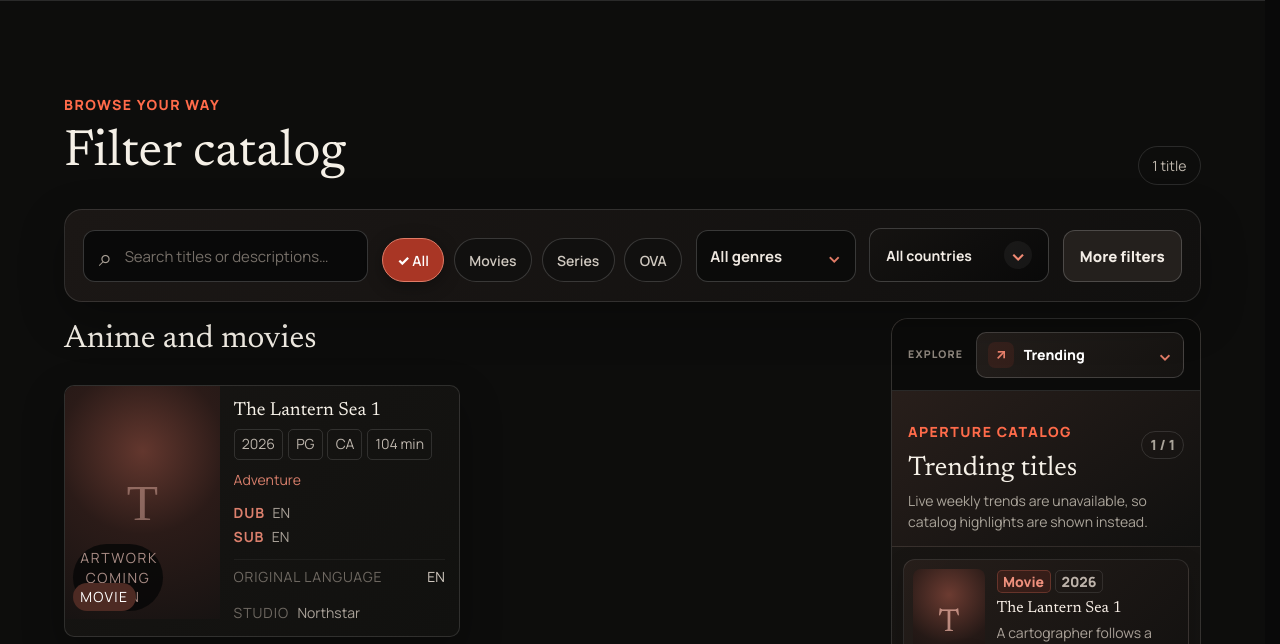
Test: CatalogFilterBrowser discovery panel › shows Trending by default while keeping Recent Searches available
Expected: the heading "Trending titles" is shown, [908,454,1077,482]
Expected: the heading "Recent searches" is not shown
What coordinates should you click on to do the following:
click the button "↗ Trending ⌄"
I would click on:
 (1080, 355)
Its box is [976,332,1184,378].
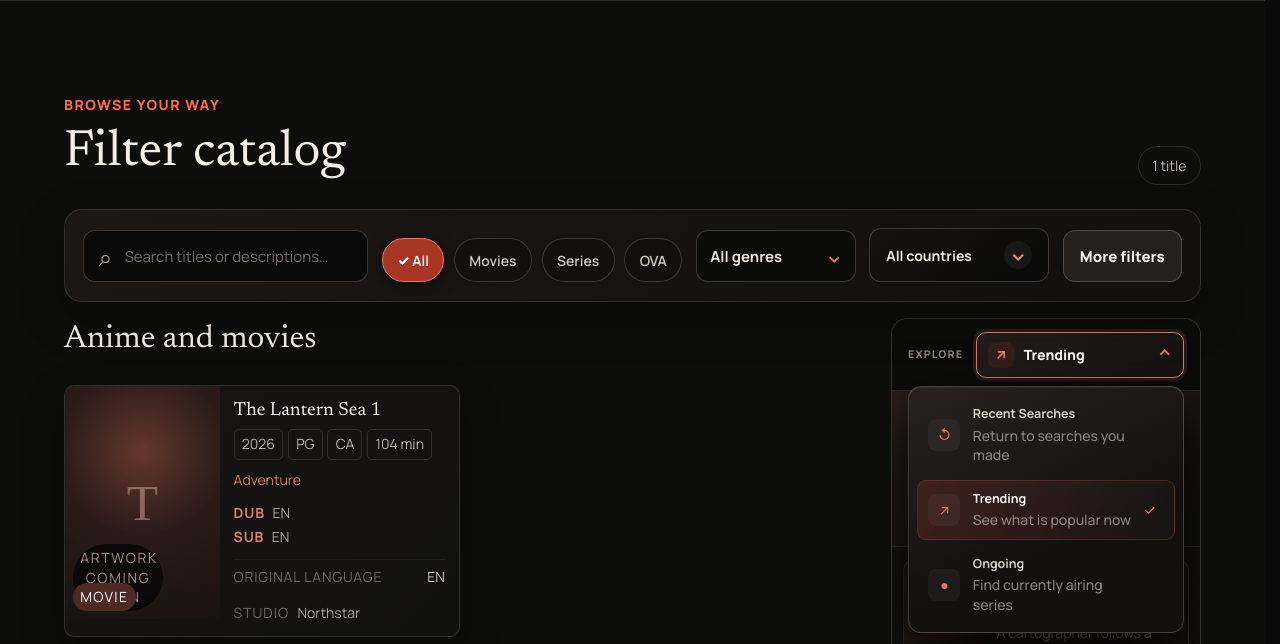
What coordinates should you click on to do the following:
click the option "↺ Recent Searches Return to searches you made"
I would click on:
 (1046, 435)
Its box is [917,395,1175,474].
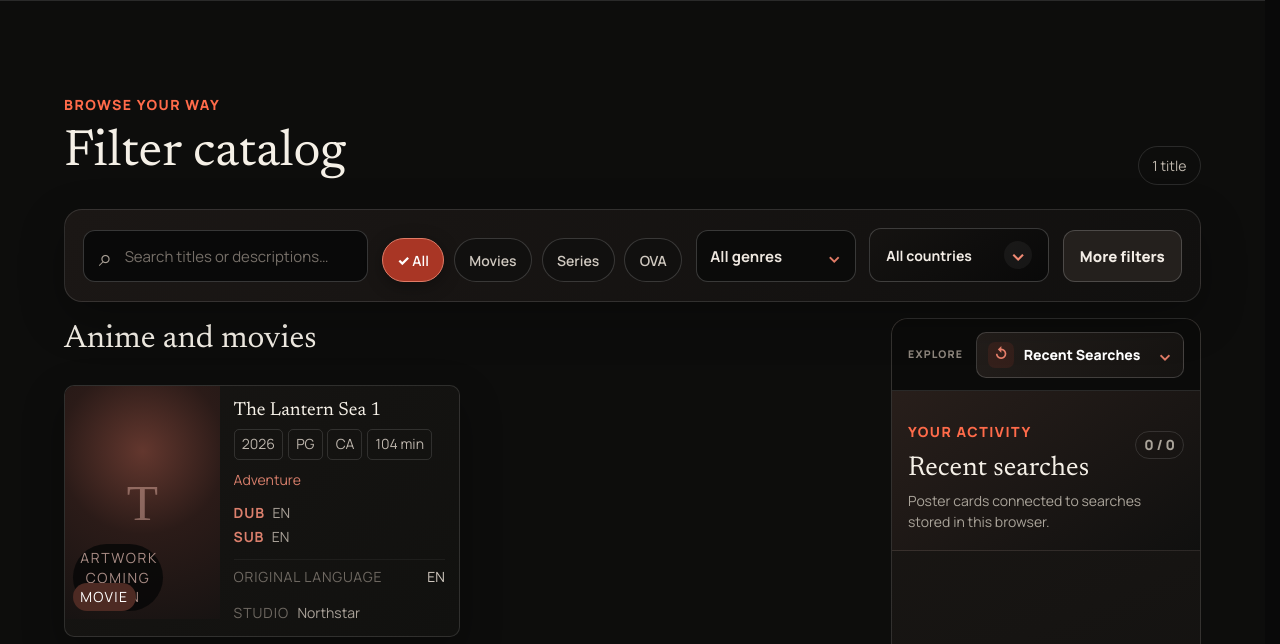
Result: the heading "Recent searches" is shown at [908,454,1089,482]
